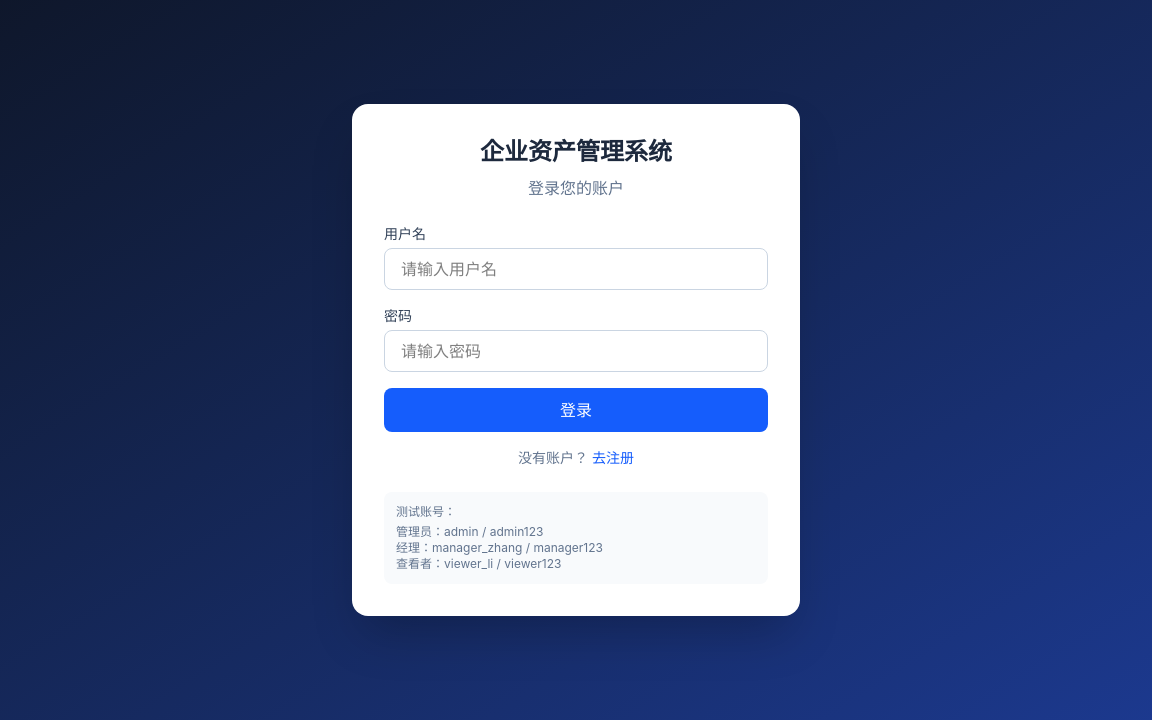
Test case: Login Page › renders register option and toggles to register mode
Expected: the text "没有账户？" is shown, [518,449,588,466]
Click to switch to register mode
Click the button "去注册".
click(613, 458)  # box [592,448,634,468]
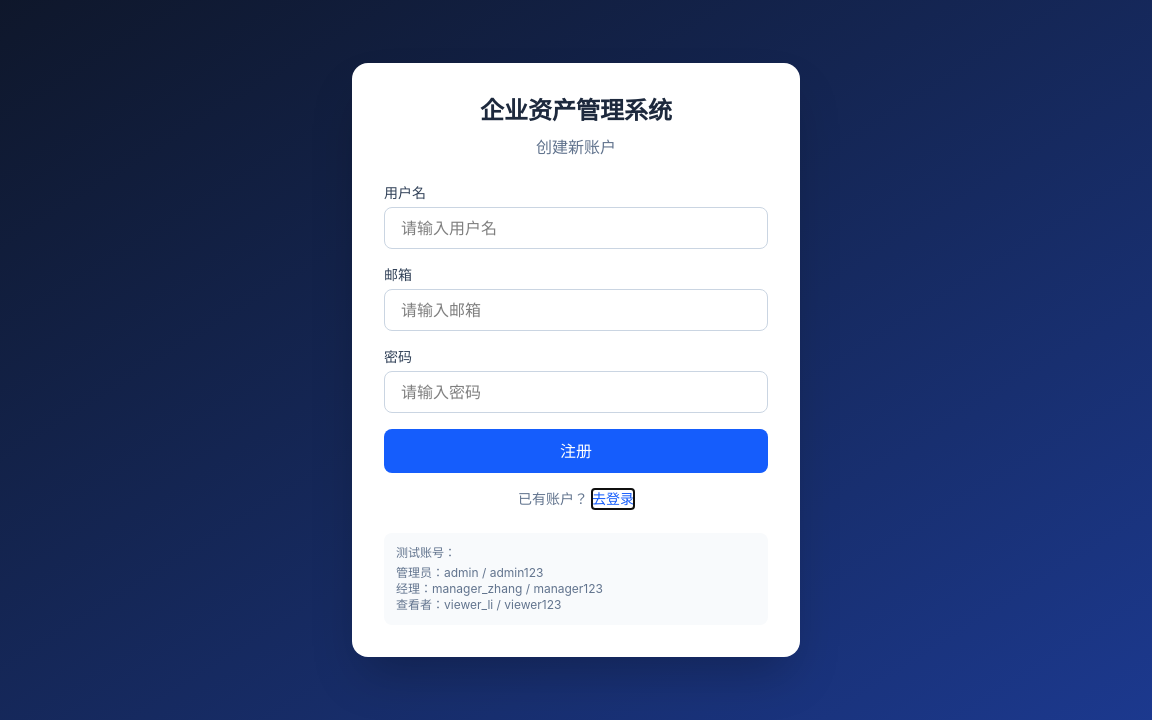
Now the field with placeholder "请输入邮箱" is shown, box [384,289,768,331]
Now the button "注册" is shown, box [384,429,768,473]
Now the text "已有账户？" is shown, box [518,490,588,507]
